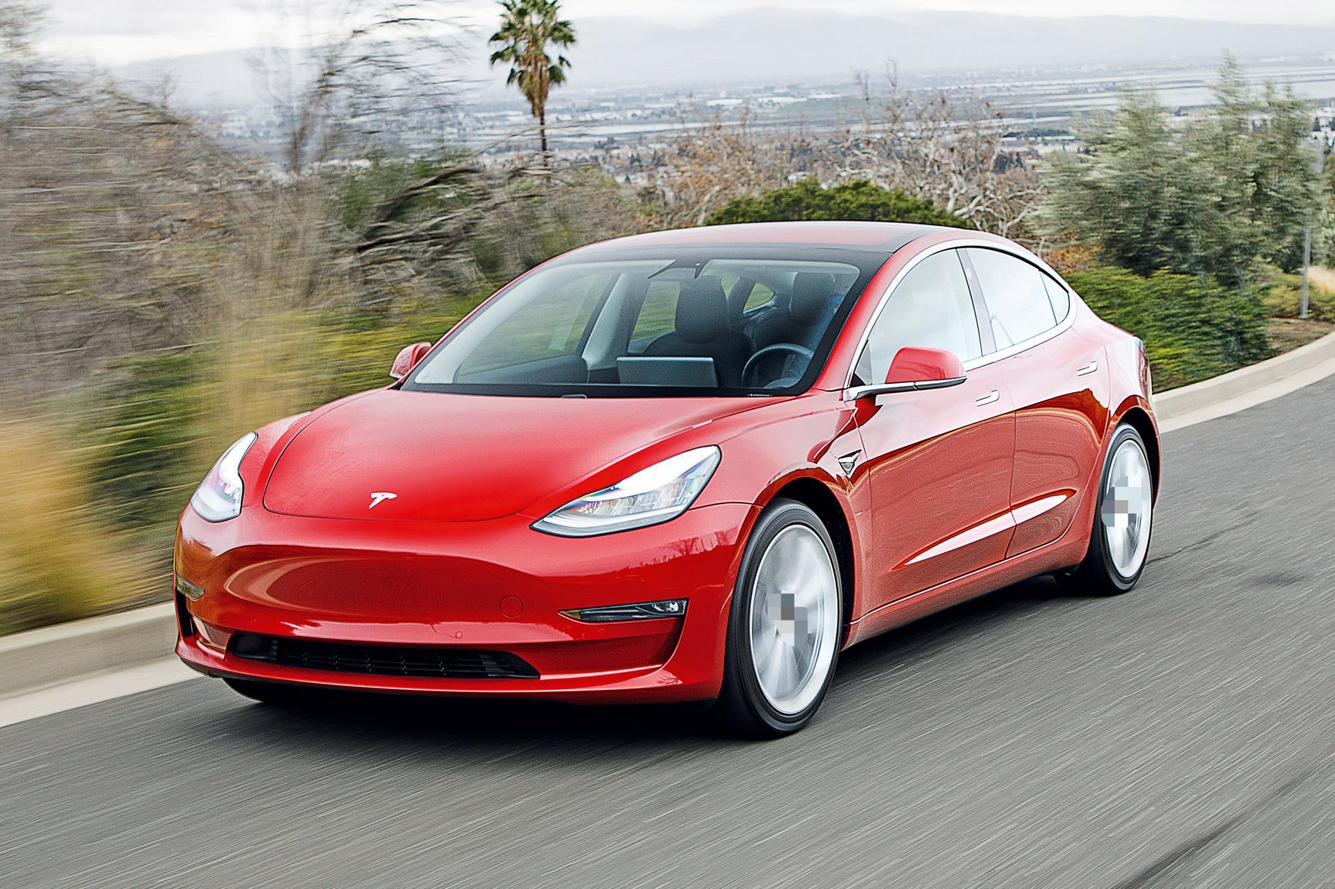Tesla: (368, 492, 397, 510)
